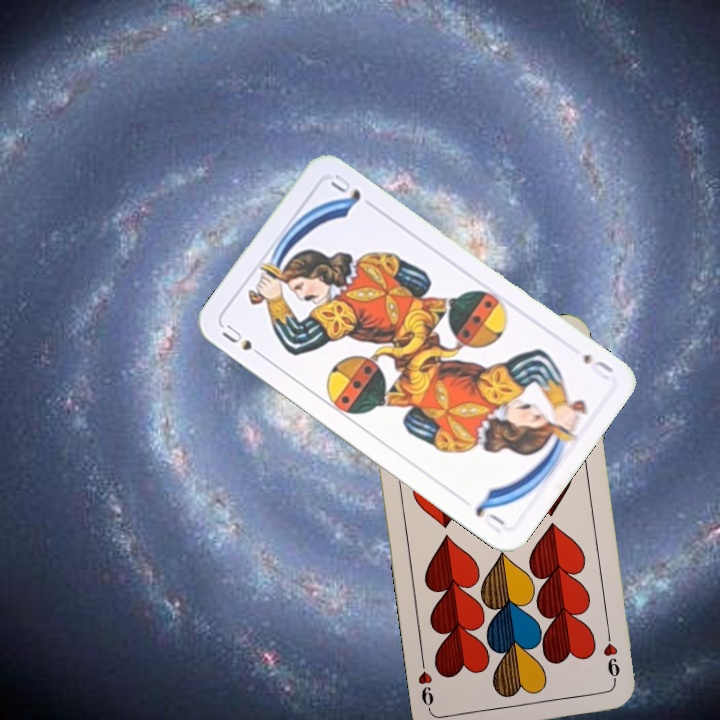H9: (599, 626, 622, 685)
SU: (218, 320, 270, 363), (578, 349, 617, 383)
